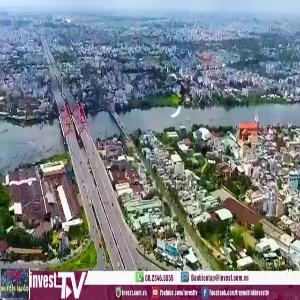drone: (160, 71, 204, 115)
